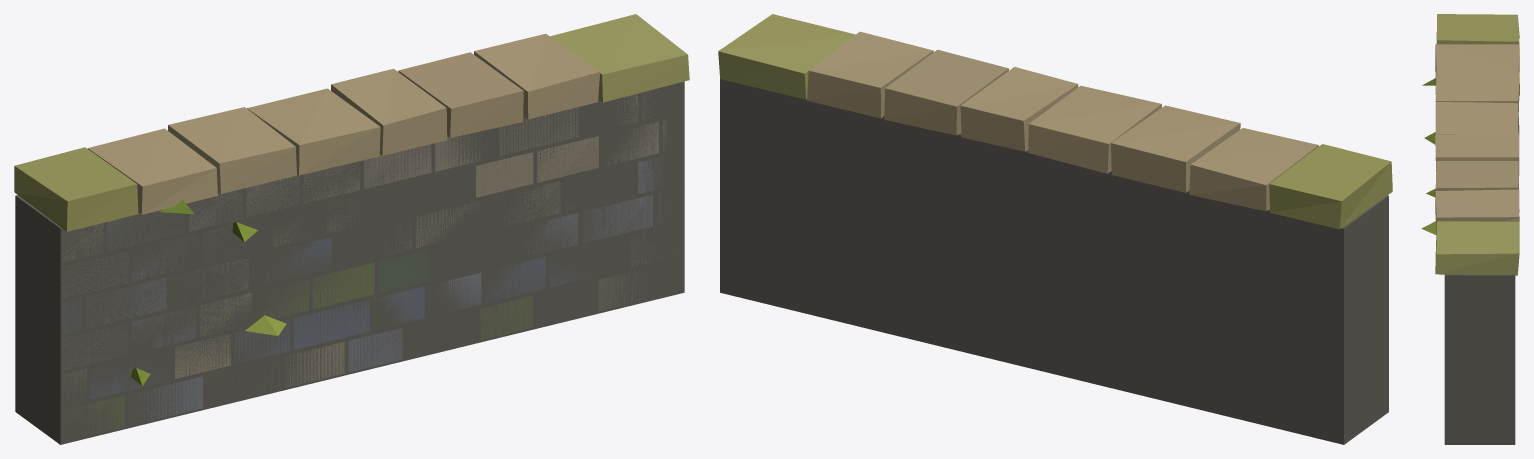
Rendered from town_canal_wall-lod1.glb.
The picture shows the model from 3 angles, left to right: view 1: azimuth 30°, elevation 25°; view 2: azimuth 150°, elevation 25°; view 3: azimuth 270°, elevation 25°; orthographic projection. The views are drawn at different scales.
Parts seen in each view (by area): view 1: town_canal_wall; view 2: town_canal_wall; view 3: town_canal_wall.
Boxes of the visible parts, x1,y1,x2,y2 form: town_canal_wall: (14, 14, 689, 444); town_canal_wall: (718, 14, 1392, 444); town_canal_wall: (1421, 14, 1519, 444).
Bounding box in the file's own units: 8 × 3.04 × 1.4.
